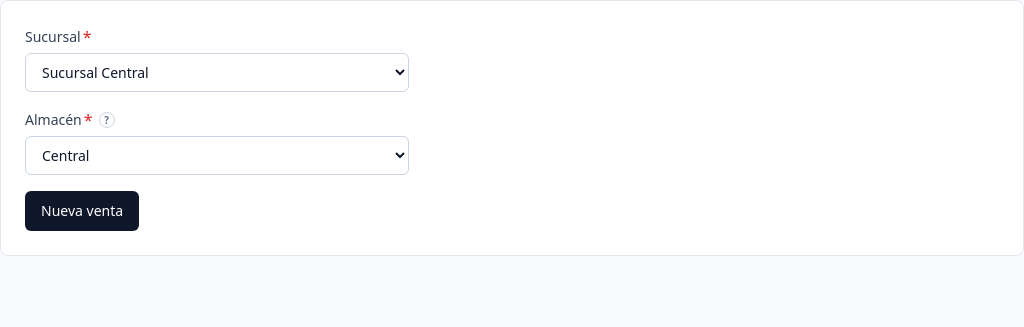
Scenario: NewSale › Paso B — "Nueva venta" › surfaces a 403 as a safe in-place message (unauthorized location)
Click the button "Nueva venta": (82, 211) [25,191,139,231]
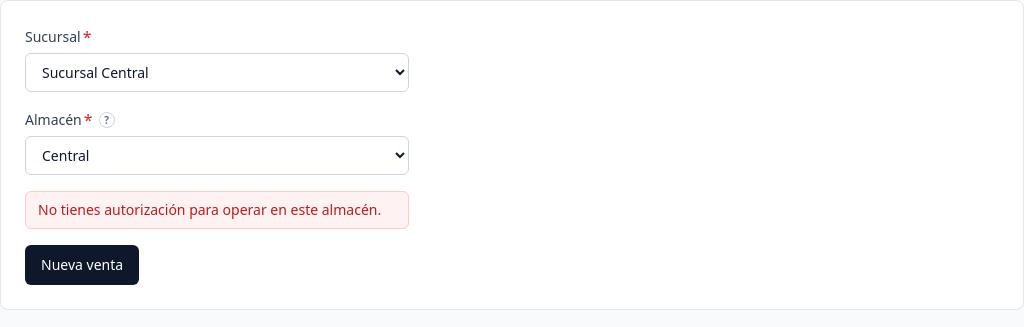
Now the text "No tienes autorización para operar en este almacén." is shown, box [38,200,396,220]
